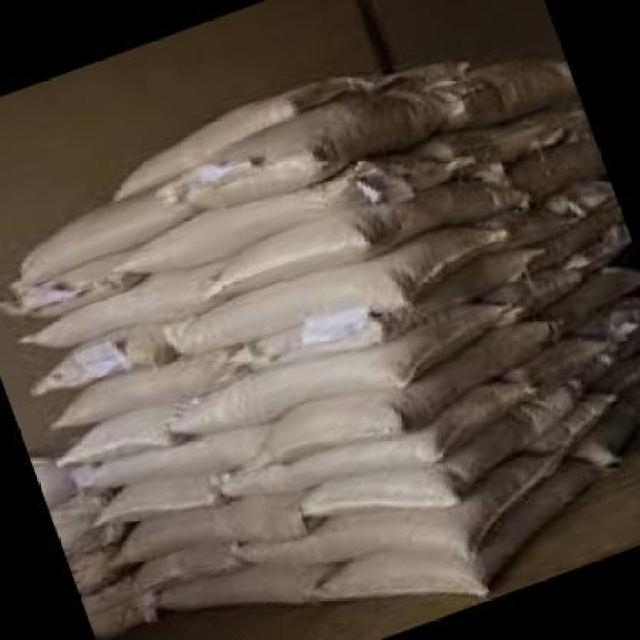gunny_bag: (168, 210, 504, 359), (300, 363, 608, 525), (249, 323, 588, 467), (302, 450, 606, 604), (115, 142, 461, 273), (169, 302, 517, 426), (214, 380, 542, 498), (238, 258, 552, 378), (110, 56, 376, 197), (243, 450, 563, 563), (172, 80, 455, 206), (208, 187, 529, 291), (18, 249, 241, 348), (22, 185, 207, 289), (81, 413, 281, 490), (50, 354, 238, 424), (147, 553, 349, 617), (125, 495, 310, 563), (22, 317, 186, 393), (471, 235, 631, 310), (47, 392, 194, 469), (430, 59, 576, 136), (415, 108, 593, 169), (440, 139, 605, 200), (8, 249, 153, 318), (94, 462, 253, 522), (479, 177, 612, 248), (509, 190, 626, 262), (515, 388, 626, 454), (496, 333, 622, 387), (131, 535, 245, 594), (513, 267, 640, 319), (67, 521, 137, 595), (374, 55, 499, 96), (574, 389, 640, 458), (50, 490, 118, 554), (88, 593, 167, 640), (29, 456, 80, 516), (82, 577, 154, 617), (579, 296, 640, 340), (599, 328, 640, 380), (597, 354, 640, 392)
